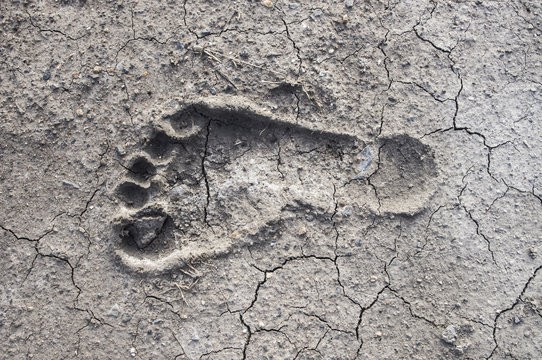human_foot_print: (86, 91, 457, 269)
